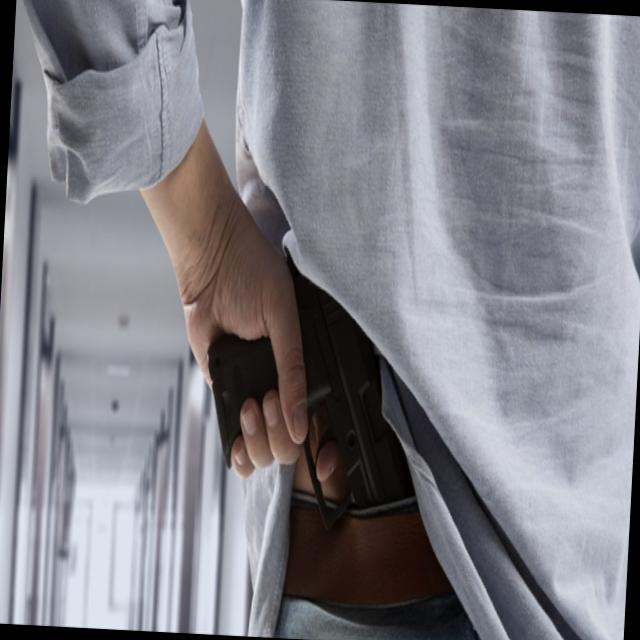handgun: (194, 235, 451, 548)
